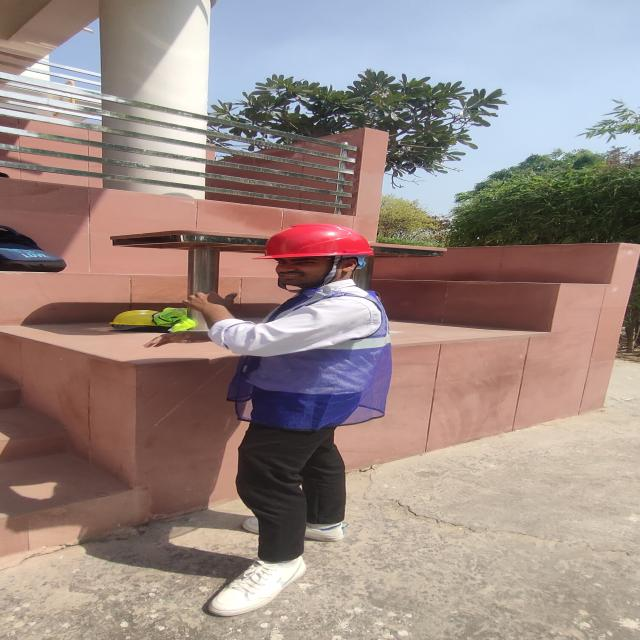safe: (186, 224, 391, 616)
